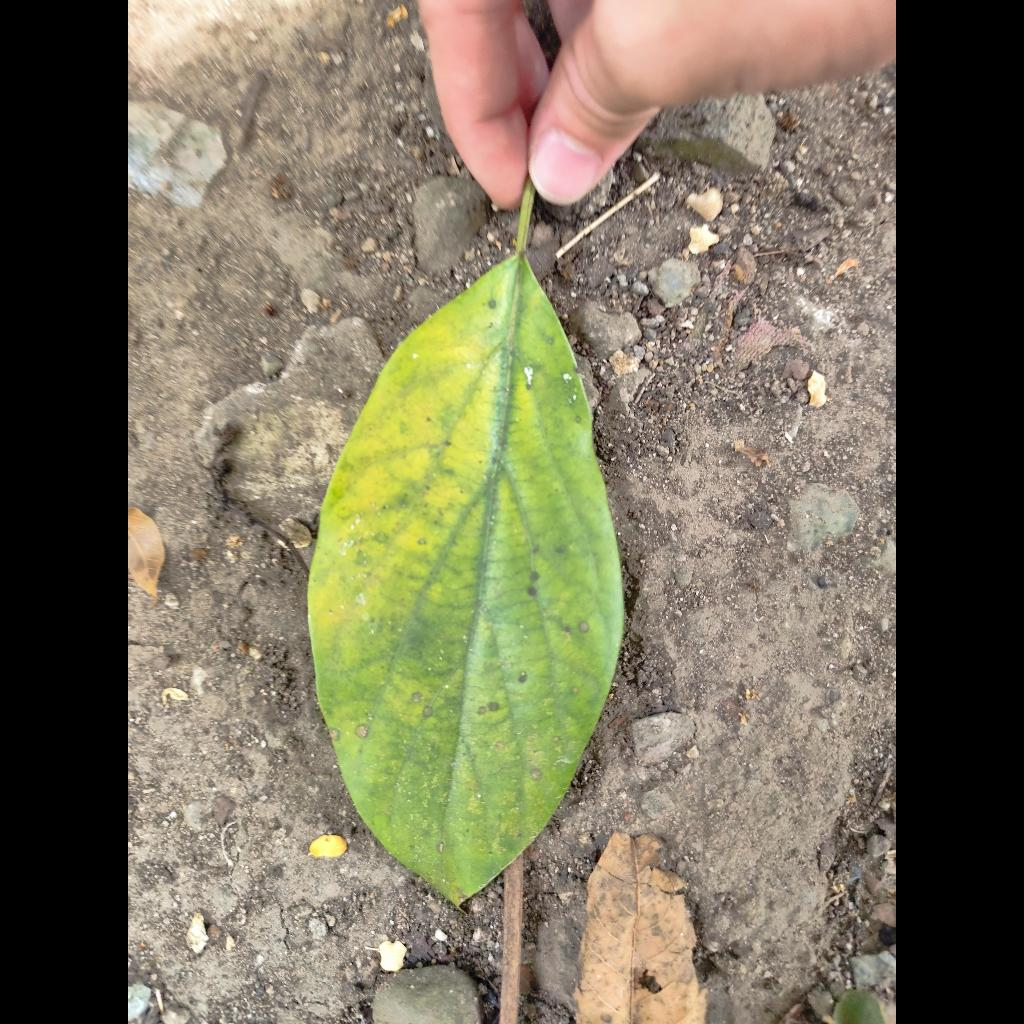deficiencia_nutricional: (308, 250, 623, 905)
